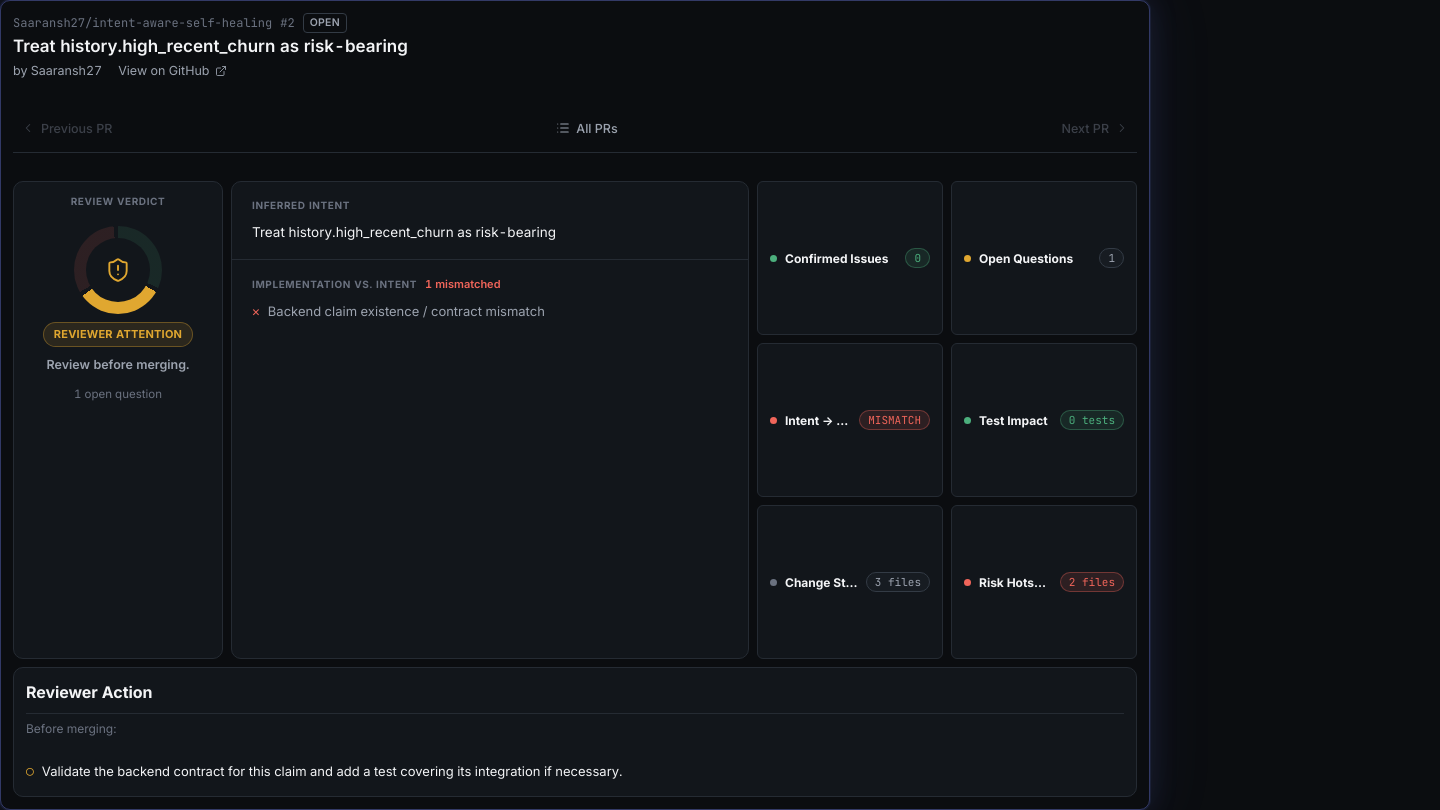
Test: PRDetail review intelligence — real captured PR #2 (correct) › never renders HIGH RISK for a change with no real defect
The width and height of the screenshot is (1440, 810).
Expected: the text "REVIEWER ATTENTION" is shown, [43,322,193,347]
Click the button "Confirmed Issues 0". click: (850, 258)
box: [757,181,943,335]
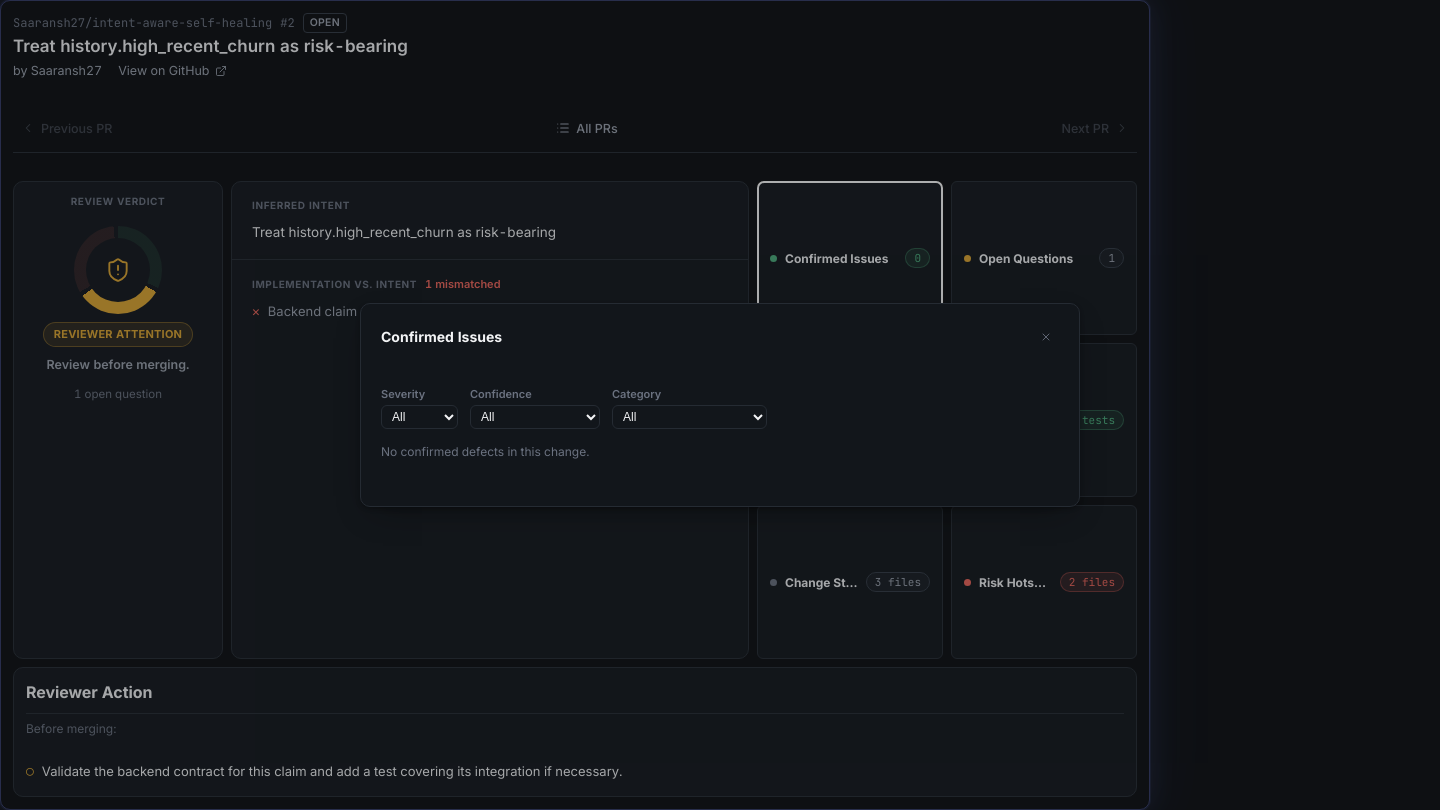
Now the text "No confirmed defects in this change." is shown, box [381,444,590,459]
